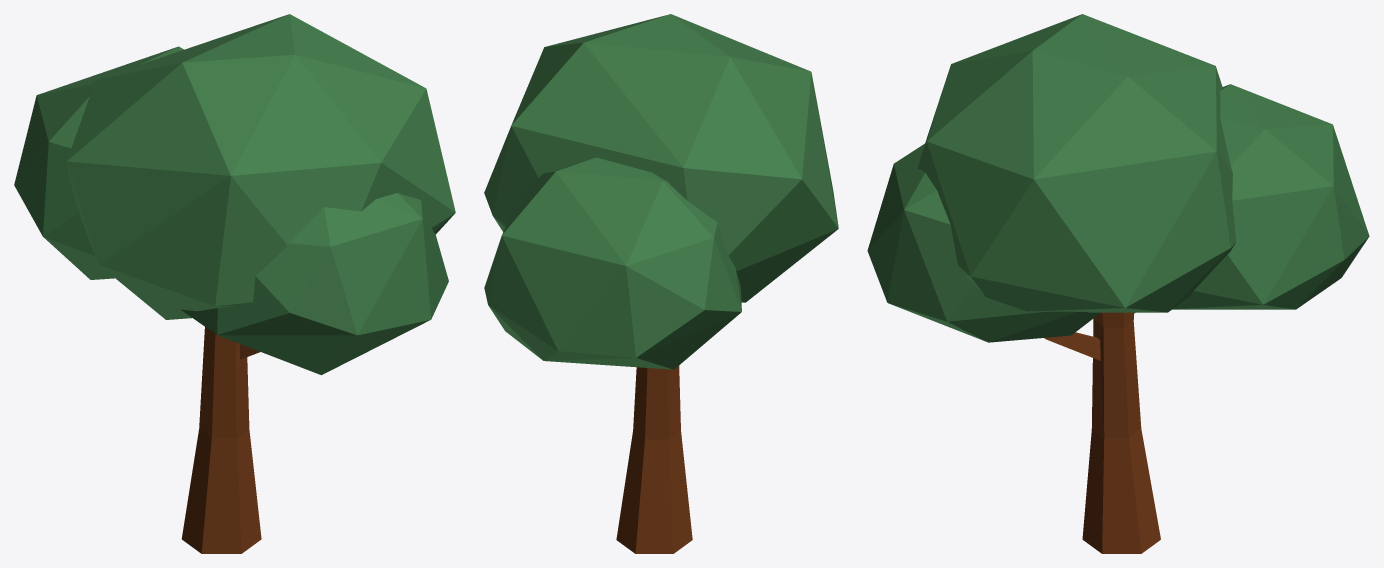
The model's file is Tree2.fbx.
3 renders of one model, left to right at view 1: azimuth 30°, elevation 25°; view 2: azimuth 150°, elevation 25°; view 3: azimuth 270°, elevation 25°, orthographic. The views are drawn at different scales.
Visible parts, largest first — view 1: Icosphere, Icosphere.002, Cylinder.006, Icosphere.001; view 2: Icosphere, Icosphere.001, Cylinder.006; view 3: Icosphere, Icosphere.001, Icosphere.002, Cylinder.006.
Boxes of the visible parts, left/top/right/bottom form: Icosphere: left=67, top=14, right=455, bottom=319; Icosphere.002: left=181, top=193, right=448, bottom=375; Cylinder.006: left=181, top=327, right=261, bottom=553; Icosphere.001: left=14, top=46, right=183, bottom=279; Icosphere: left=484, top=14, right=838, bottom=302; Icosphere.001: left=484, top=157, right=741, bottom=369; Cylinder.006: left=616, top=365, right=692, bottom=553; Icosphere: left=917, top=14, right=1236, bottom=312; Icosphere.001: left=1172, top=84, right=1369, bottom=309; Icosphere.002: left=867, top=143, right=1100, bottom=342; Cylinder.006: left=1044, top=312, right=1160, bottom=553.
Size of the model in its own units: 527 by 769 by 697.
